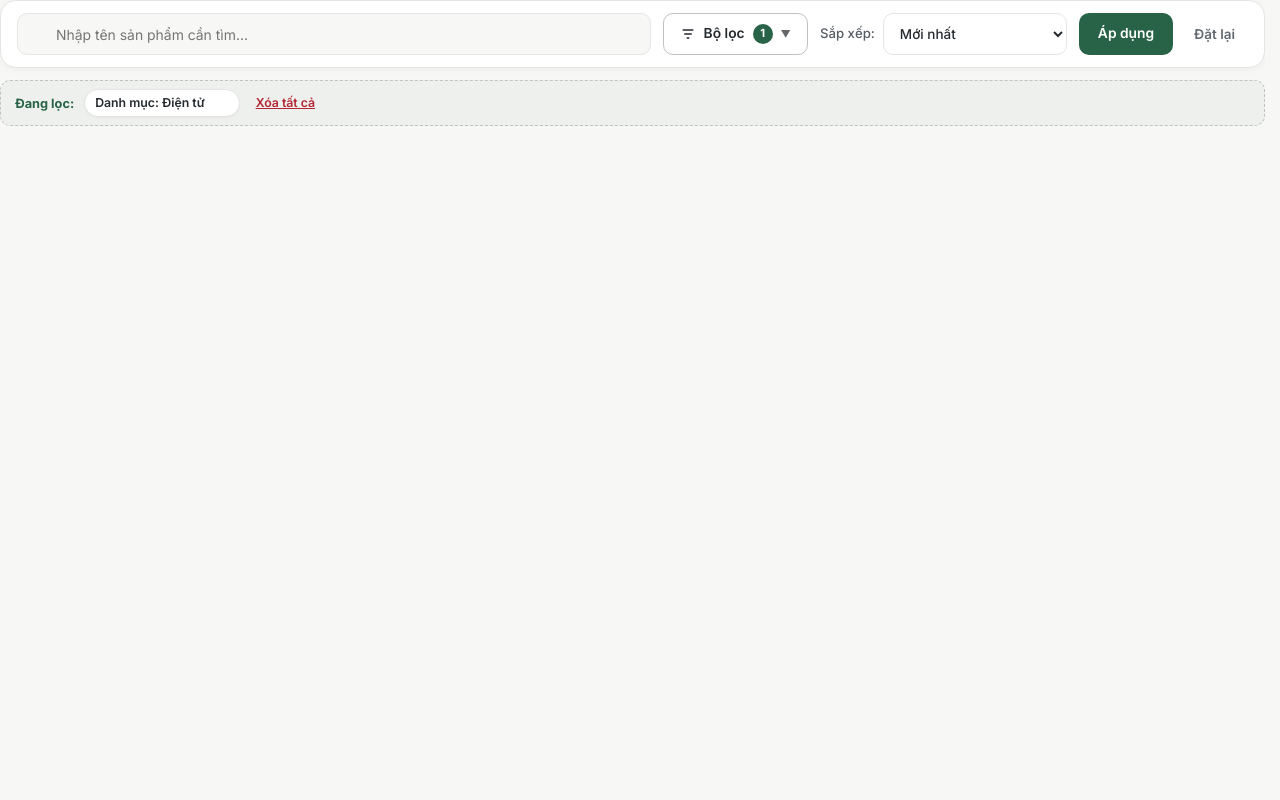
MarketplaceFilters Component › renders filter chips without checkmark icon ✓ and in scrollable containers
Open drawer
Click the button "Bộ lọc 1 ▼". click: (735, 34)
box: [662,13,808,55]
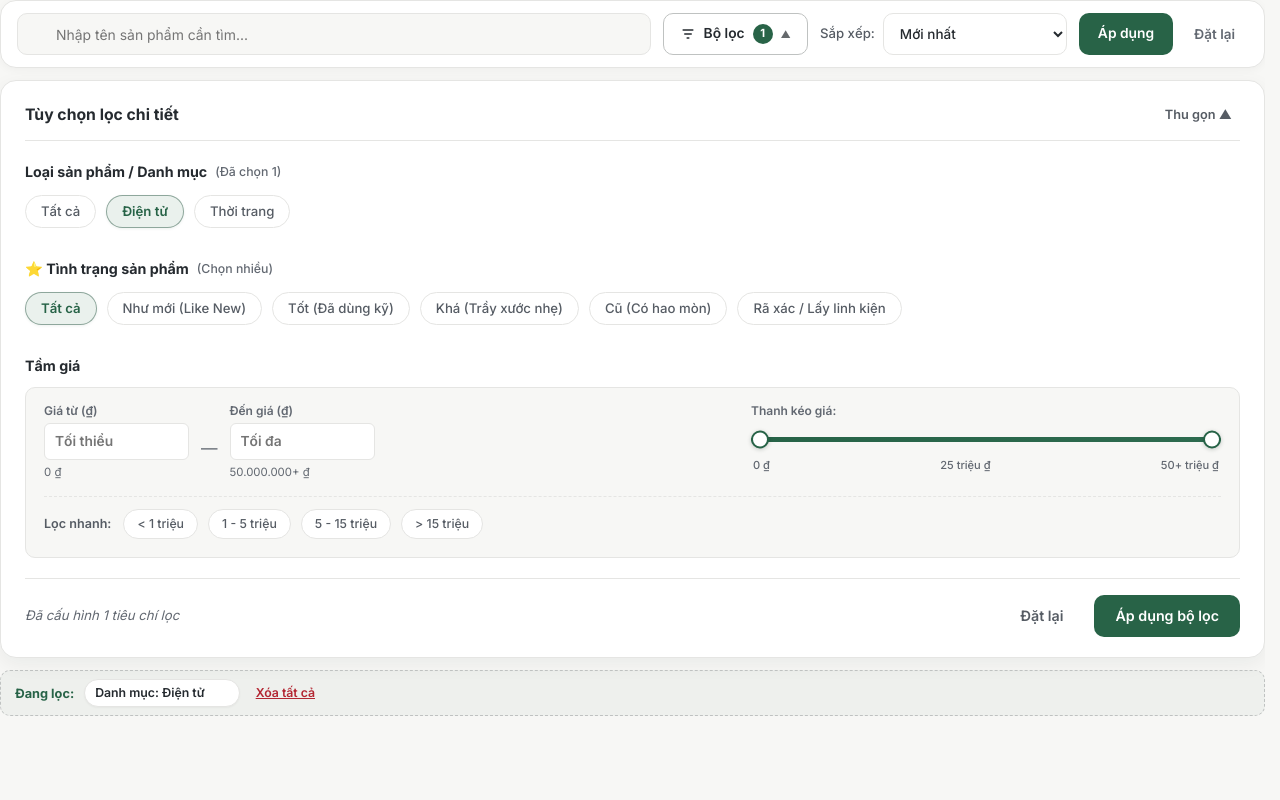
expect the button "Điện tử" is shown: met, box [106,194,184,228]
